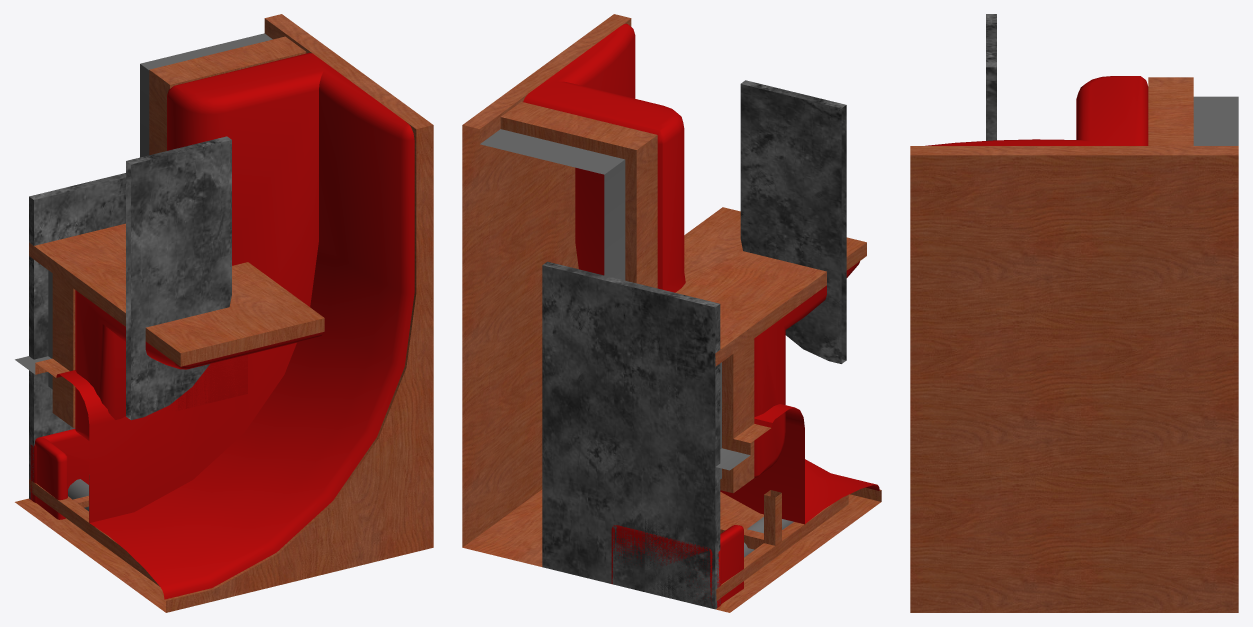
Rendered from low-poly-bar-table-and-booths-set-c2509f.glb.
The picture shows the model from 3 angles, left to right: view 1: azimuth 30°, elevation 25°; view 2: azimuth 150°, elevation 25°; view 3: azimuth 270°, elevation 25°; orthographic projection. The views are drawn at different scales.
Visible parts, largest first — view 1: PropMesh; view 2: PropMesh; view 3: PropMesh.
Part boxes in pixels (bbox=[...]): PropMesh: bbox=[15, 14, 433, 612]; PropMesh: bbox=[462, 14, 881, 612]; PropMesh: bbox=[910, 14, 1238, 612].
Size of the model in its own units: 1.46 by 2.2 by 1.43.
Materials: 4 (2 with a texture image).
